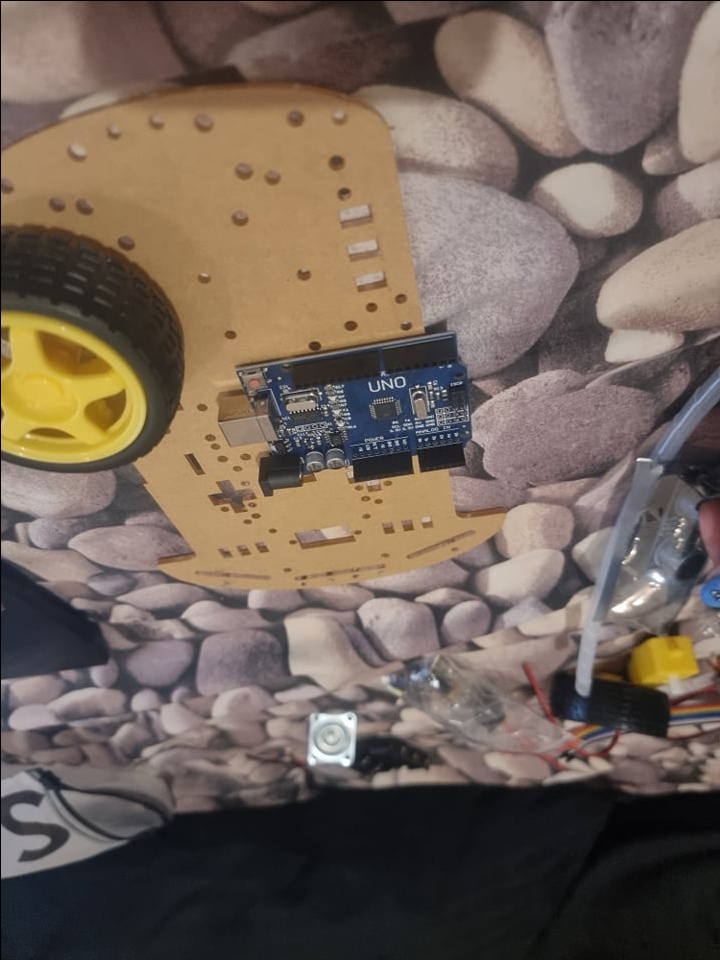BATTERY BOX: (349, 733, 437, 780)
UNO R3: (215, 326, 490, 494)
